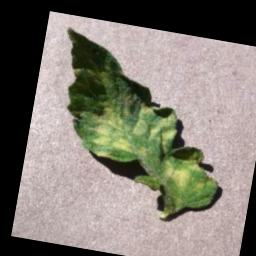Leaf_Mold: (84, 97, 140, 162), (158, 143, 213, 198), (131, 99, 181, 154)
